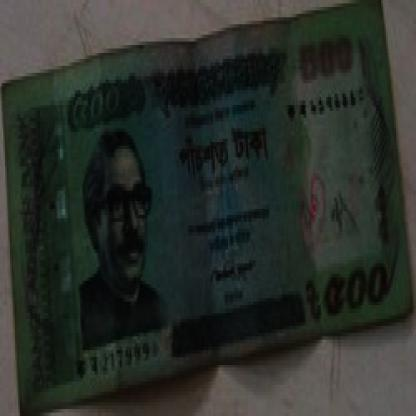500 taka: (163, 125, 281, 187), (45, 76, 133, 142)
currency: (3, 7, 414, 399)
